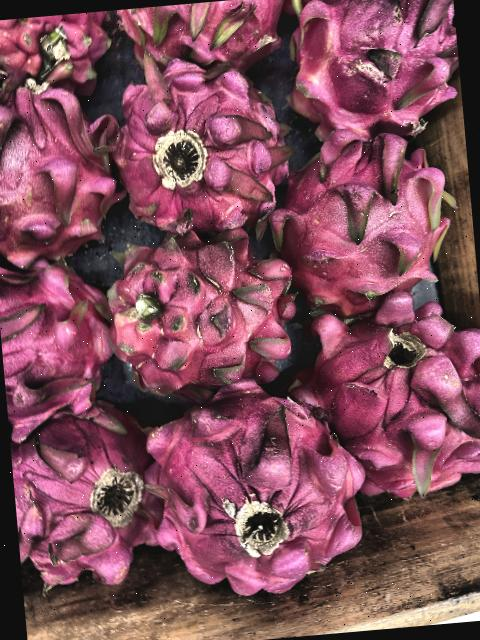buah-naga-matang: (127, 366, 380, 612), (282, 282, 480, 506), (260, 123, 458, 311), (103, 217, 296, 392), (102, 53, 288, 229), (7, 398, 164, 590), (280, 0, 464, 138), (0, 66, 114, 268), (0, 254, 110, 425), (116, 0, 285, 77), (0, 11, 104, 98)
